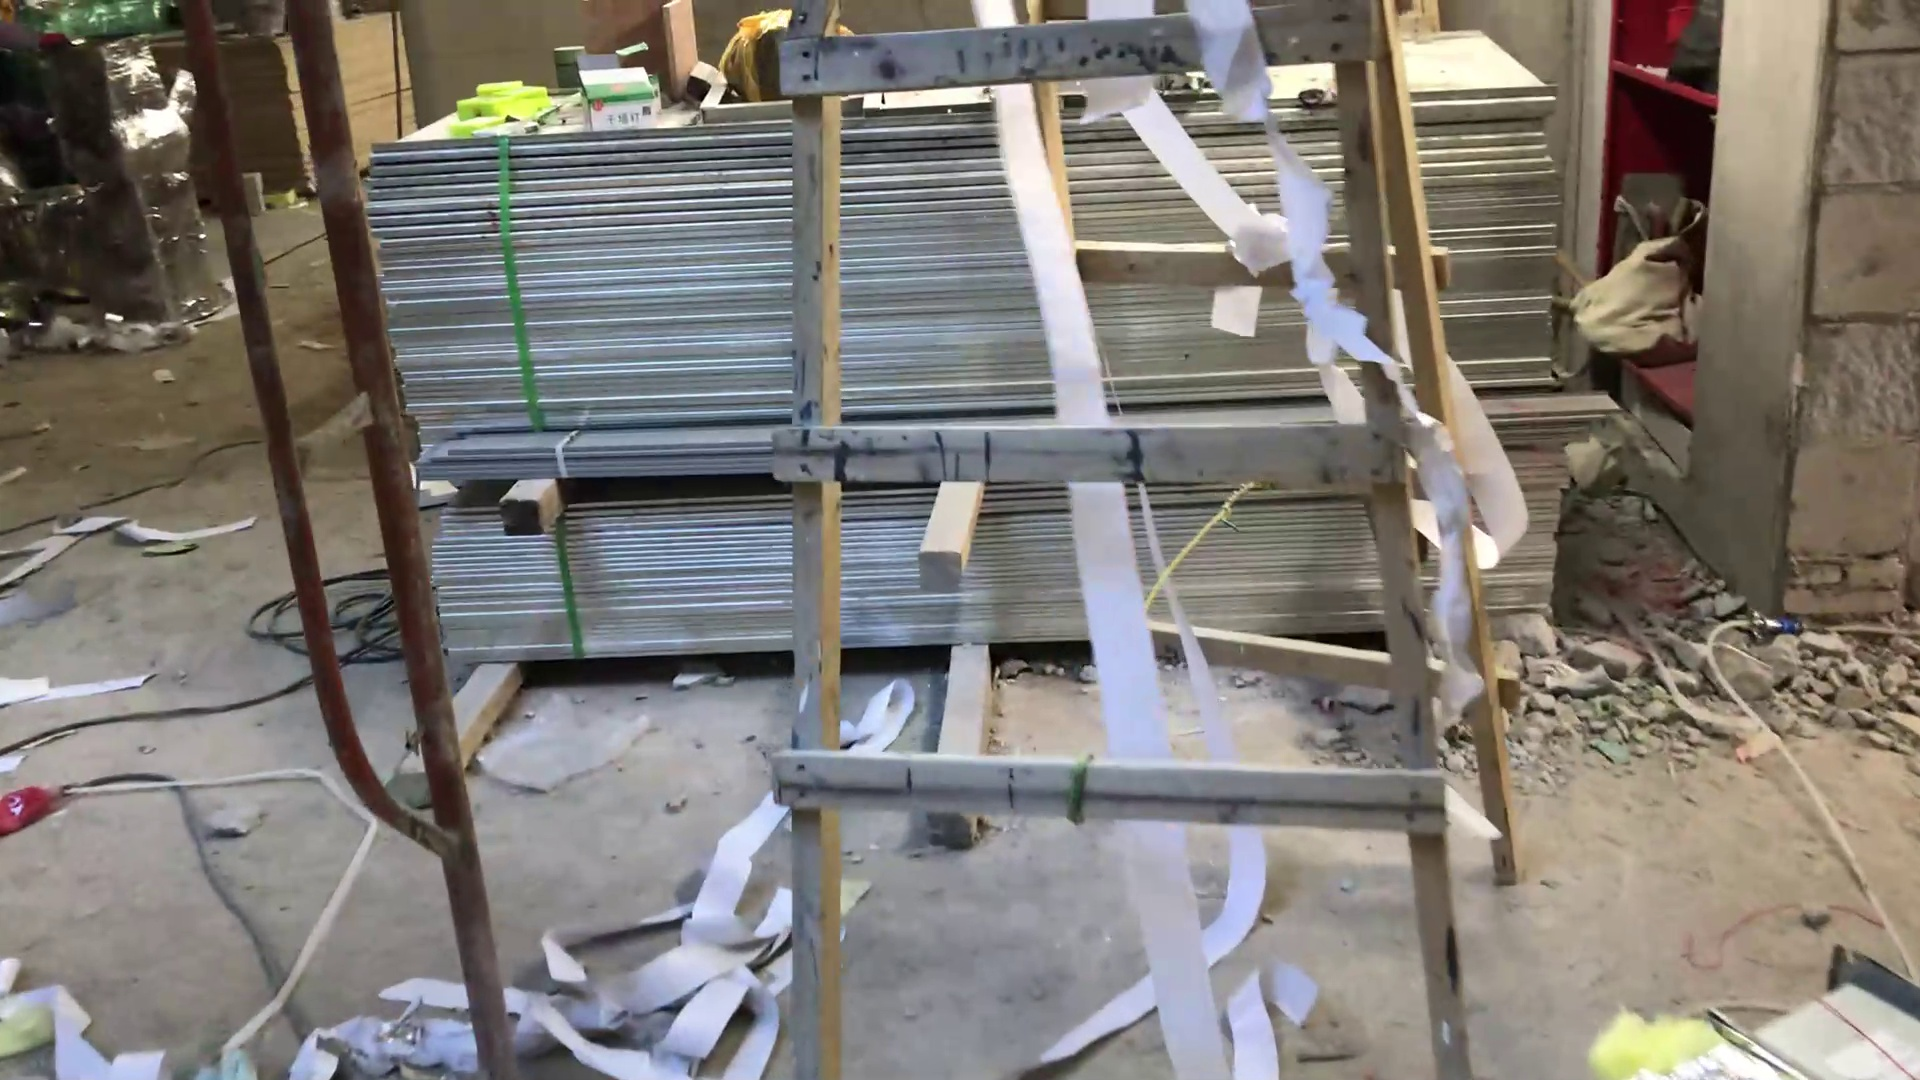board: (349, 86, 1596, 676)
